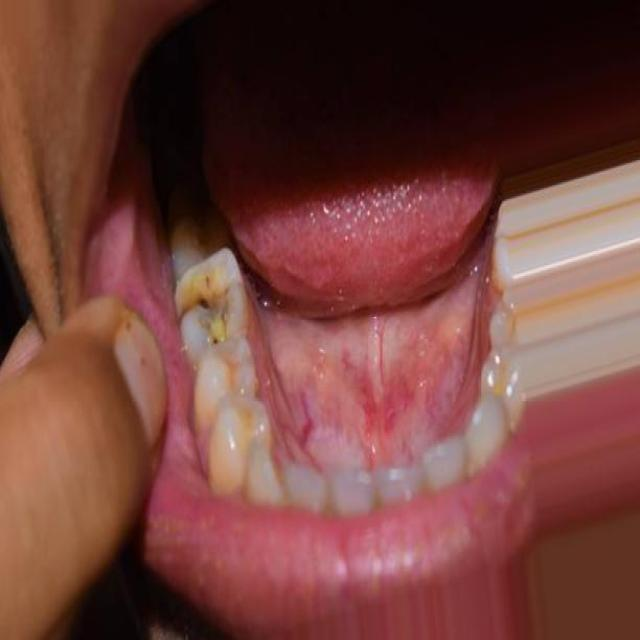caries: (178, 262, 238, 348)
